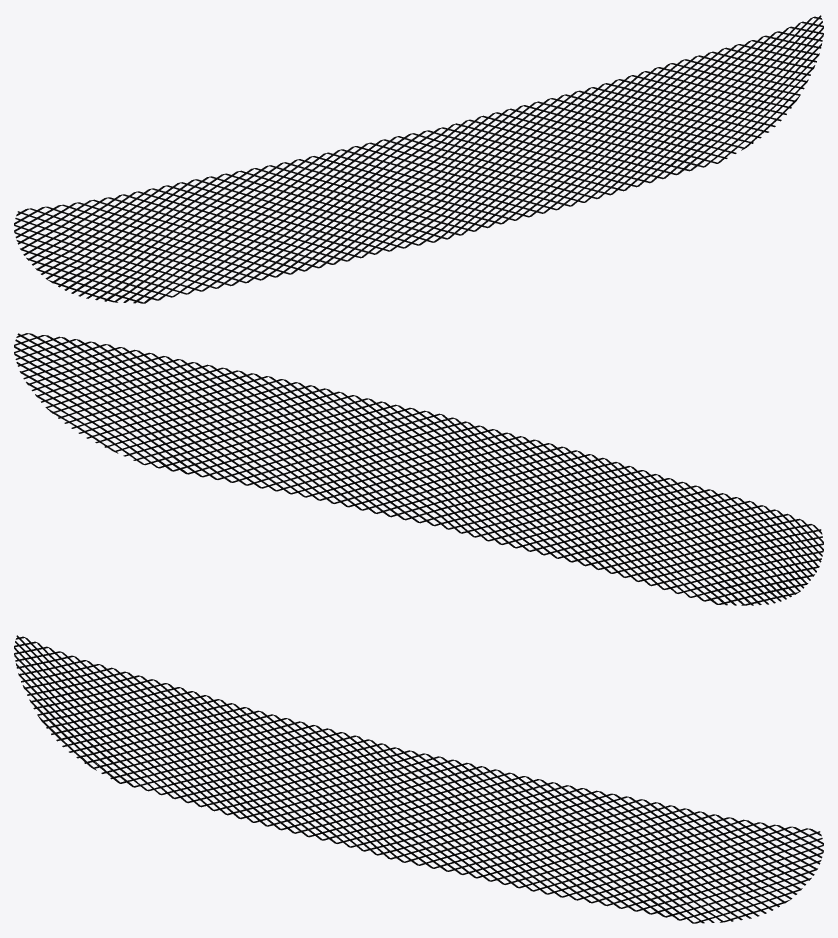
The model's file is ZG01_zunsport_grille_black.glb.
The picture shows the model from 3 angles, top to bottom: view 1: azimuth 30°, elevation 25°; view 2: azimuth 150°, elevation 25°; view 3: azimuth 330°, elevation 25°; orthographic projection.
Parts seen in each view (by area): view 1: MOD_NB_ZG01_mouth; view 2: MOD_NB_ZG01_mouth; view 3: MOD_NB_ZG01_mouth.
Boxes of the visible parts, x1,y1,x2,y2 form: MOD_NB_ZG01_mouth: (14, 15, 823, 303); MOD_NB_ZG01_mouth: (14, 333, 823, 605); MOD_NB_ZG01_mouth: (14, 635, 823, 923).
Bounding box in the file's own units: 0.8098 × 0.108 × 0.0396.
1 material, 1 textured.
